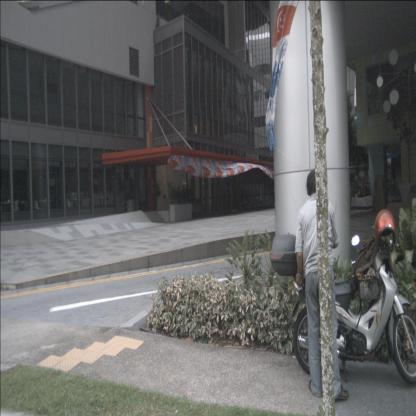human-pedestrian-adult: (295, 168, 350, 402), (382, 162, 389, 215)
vehicle-motorcycle: (269, 208, 415, 386)
